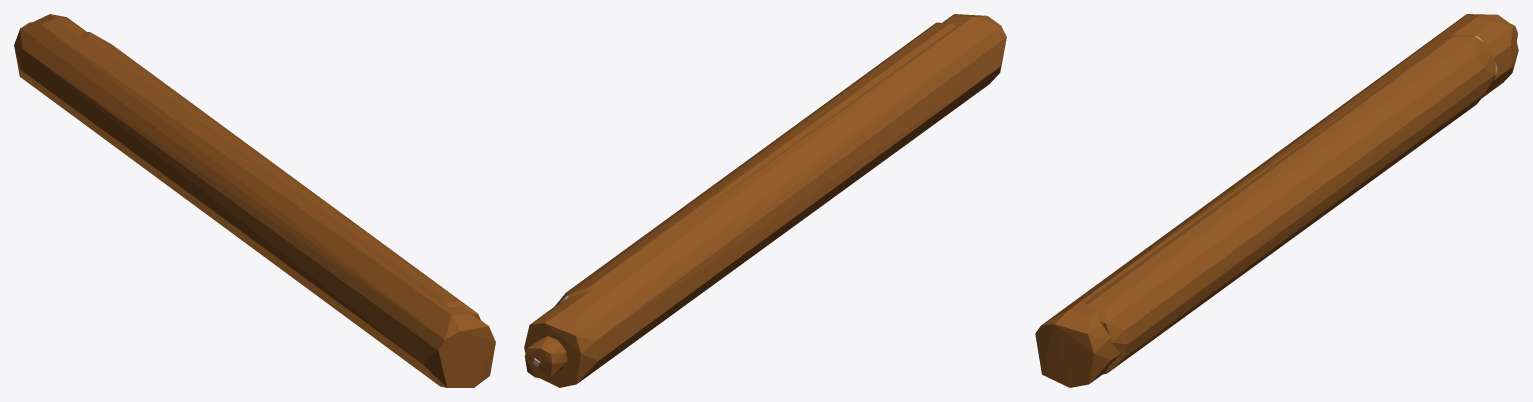
File: WoodenPoles.fbx
3 views of the same model, side by side, from view 1: azimuth 30°, elevation 25°; view 2: azimuth 150°, elevation 25°; view 3: azimuth 330°, elevation 25° (orthographic).
Parts seen in each view (by area): view 1: WoodenPole, WoodenPole.001; view 2: WoodenPole, WoodenPole.001, WoodenPole.002; view 3: WoodenPole.001, WoodenPole.
Boxes of the visible parts, x1,y1,x2,y2 form: WoodenPole: [14, 14, 495, 387]; WoodenPole.001: [74, 32, 480, 319]; WoodenPole: [524, 14, 1006, 387]; WoodenPole.001: [533, 22, 966, 366]; WoodenPole.002: [524, 336, 567, 377]; WoodenPole.001: [1075, 34, 1497, 374]; WoodenPole: [1035, 14, 1518, 387].
Bounding box in the file's own units: 0.5831 × 0.5817 × 6.21.
